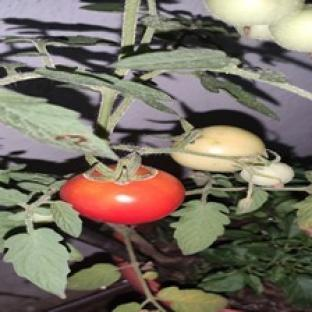Tomato: (60, 166, 185, 224), (184, 126, 266, 157), (269, 6, 311, 52), (240, 162, 293, 186)
